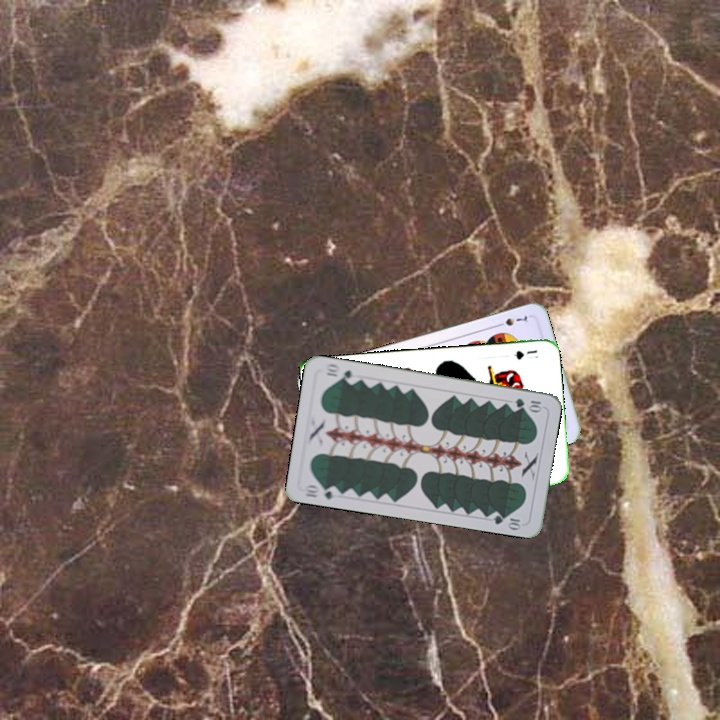G10: (300, 481, 341, 502), (511, 394, 544, 413)
GU: (510, 346, 541, 362)
S7: (492, 311, 532, 329)
